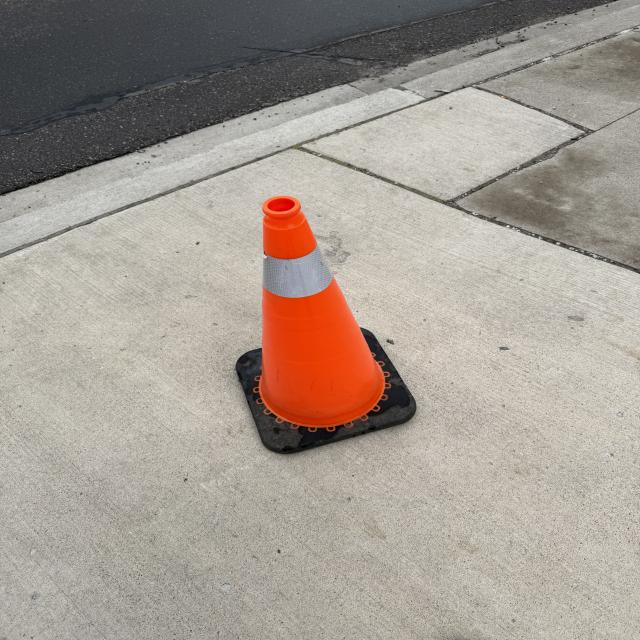Traffic Cone: (233, 196, 420, 454)
